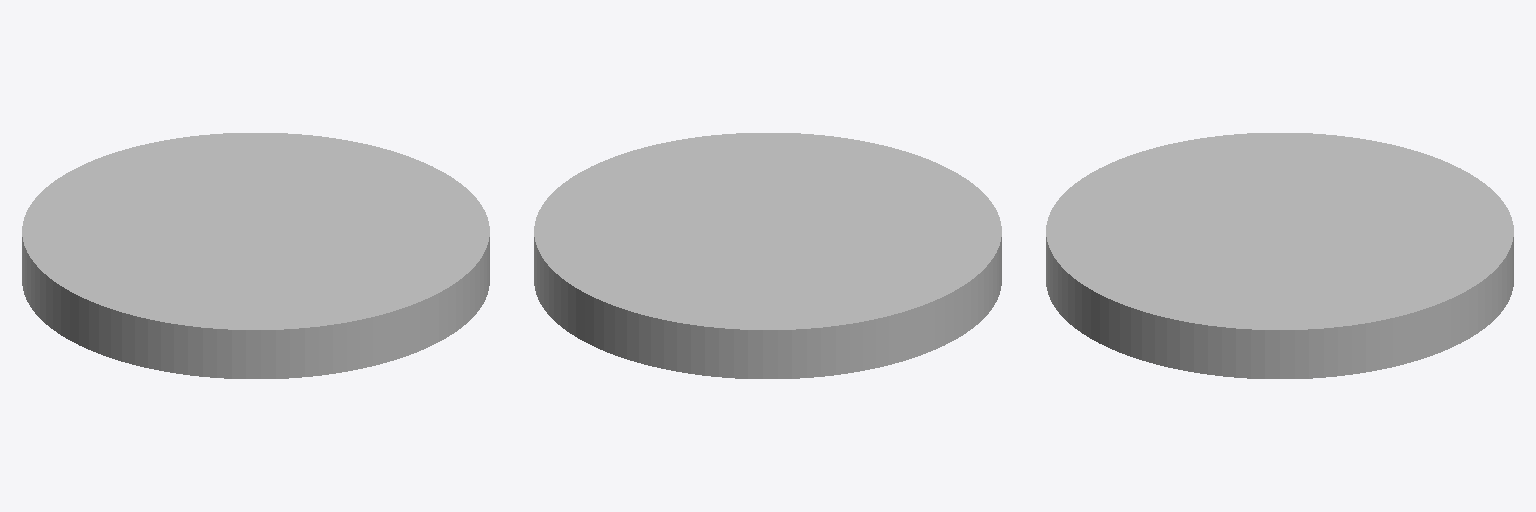
File: towerbase.obj
3 renders of one model, left to right at view 1: azimuth 30°, elevation 25°; view 2: azimuth 150°, elevation 25°; view 3: azimuth 270°, elevation 25°, orthographic.
Size of the model in its own units: 4.73 by 0.549 by 4.73.